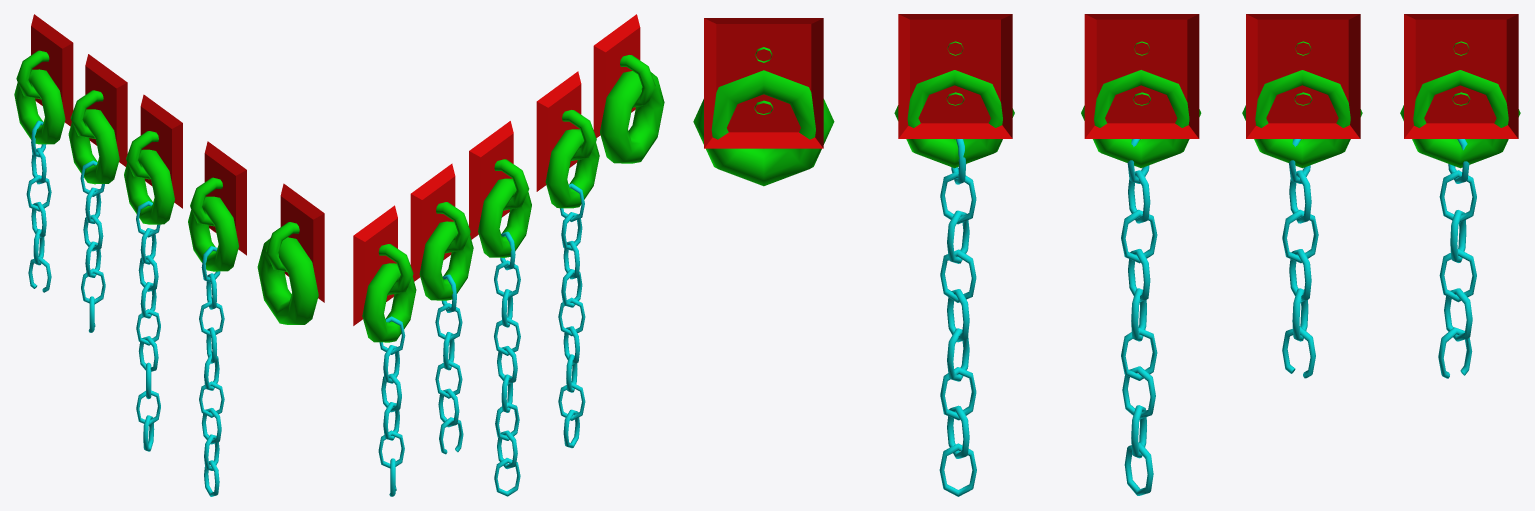
File: Chains.fbx
3 renders of one model, left to right at view 1: azimuth 30°, elevation 25°; view 2: azimuth 150°, elevation 25°; view 3: azimuth 270°, elevation 25°, orthographic. The views are drawn at different scales.
Visible parts, largest first — view 1: Chain_low_Wall_Chain_small_low, Chain_low_Wall_Chain_small1_low, Wall_chain_Broken2_low, Wall_chain_Broken_low, Chain_low_Wall_Chain_low; view 2: Chain_low_Wall_Chain_small_low, Chain_low_Wall_Chain_small1_low, Wall_chain_Broken_low, Wall_chain_Broken2_low, Chain_low_Wall_Chain_low; view 3: Chain_low_Wall_Chain_small1_low, Chain_low_Wall_Chain_small_low, Wall_chain_Broken2_low, Wall_chain_Broken_low, Chain_low_Wall_Chain_low.
Part boxes in pixels (<box>): Chain_low_Wall_Chain_small_low: <box>188,141,246,496</box>; Chain_low_Wall_Chain_small1_low: <box>124,94,182,451</box>; Wall_chain_Broken2_low: <box>14,14,73,292</box>; Wall_chain_Broken_low: <box>68,54,127,332</box>; Chain_low_Wall_Chain_low: <box>257,183,324,324</box>; Chain_low_Wall_Chain_small_low: <box>536,71,599,448</box>; Chain_low_Wall_Chain_small1_low: <box>469,121,531,496</box>; Wall_chain_Broken_low: <box>410,163,473,454</box>; Wall_chain_Broken2_low: <box>353,205,416,496</box>; Chain_low_Wall_Chain_low: <box>593,14,664,163</box>; Chain_low_Wall_Chain_small1_low: <box>1081,14,1201,495</box>; Chain_low_Wall_Chain_small_low: <box>894,14,1014,496</box>; Wall_chain_Broken2_low: <box>1400,14,1520,378</box>; Wall_chain_Broken_low: <box>1242,14,1362,378</box>; Chain_low_Wall_Chain_low: <box>693,18,834,186</box>.
Bounding box in the file's own units: 0.1925 × 1.31 × 1.98.
